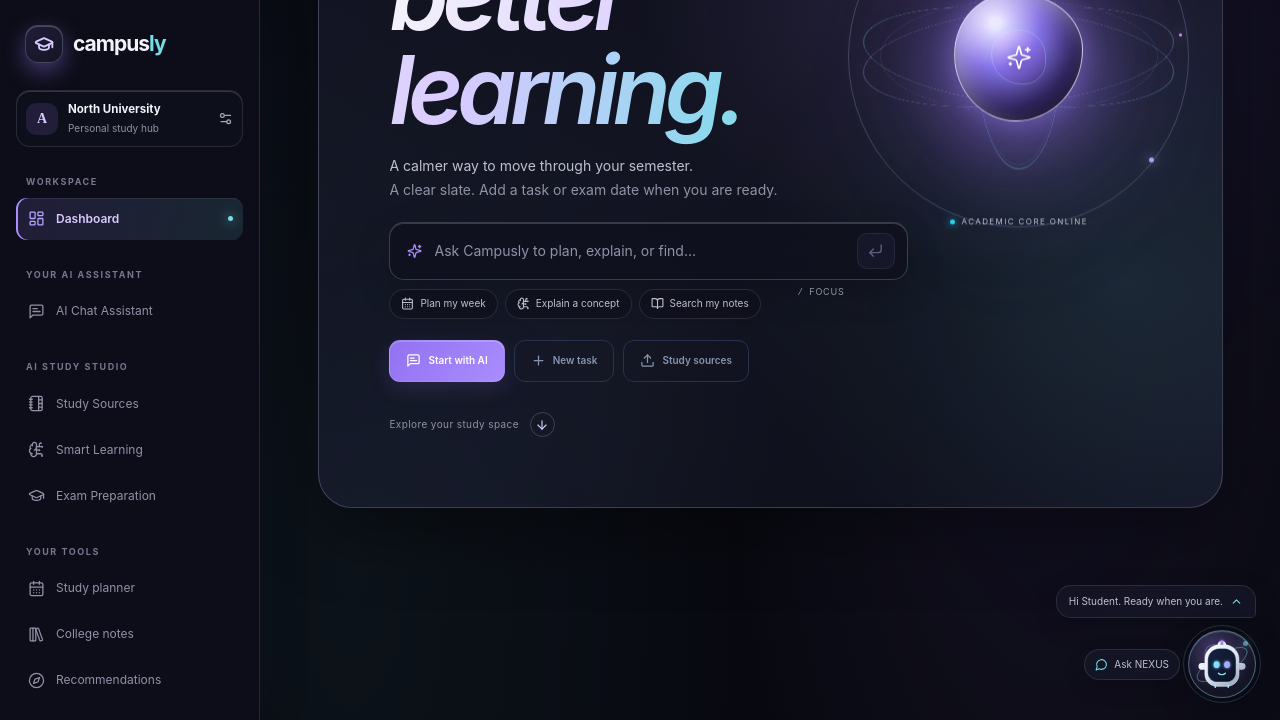
Test case: application navigation and dashboard › opens the task form directly from the dashboard quick action
(page scrolled)
Step 1. Click the button "New task" → x=564, y=360, box [513, 340, 614, 382]
(page scrolled)
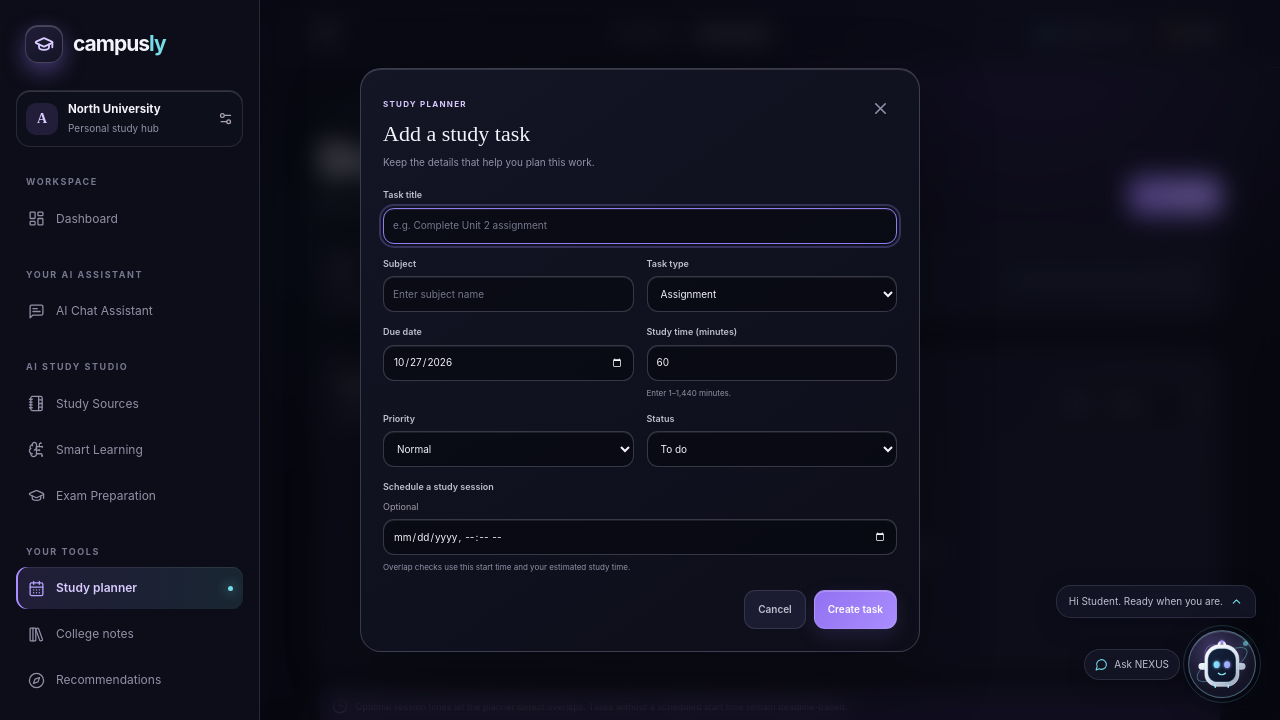
Result: the dialog "Add a study task" is shown at [360, 68, 920, 652]
